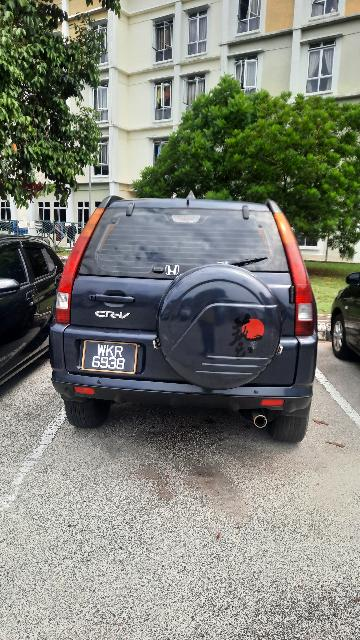License_Plate: (81, 336, 141, 380)
car: (49, 191, 321, 451)
